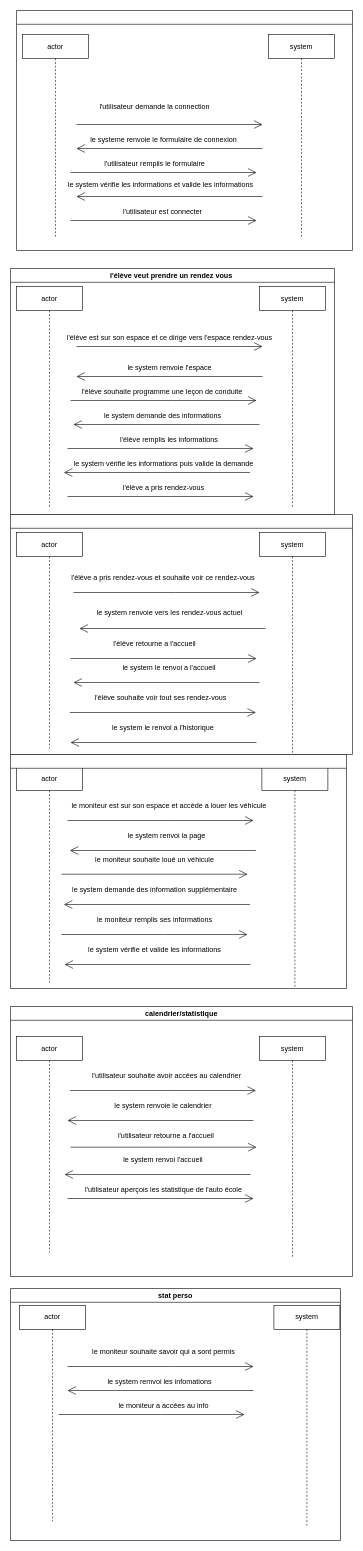
Image size: 363x1551. Some labels were removed from this diagram. Here are the shapes that lost their labels. From the top down, the centre of each, then its label:
At (184,130): "boite noire connexion".
At (181,634): "rendez-vous".
At (178,871): "loué véhicule".
